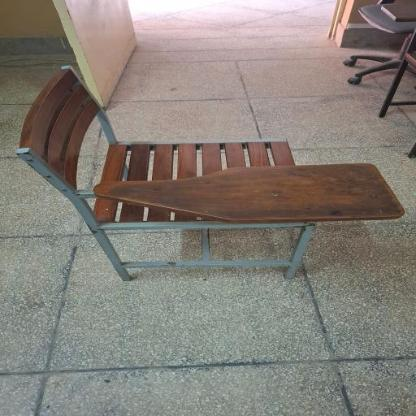chair: (7, 63, 410, 283)
